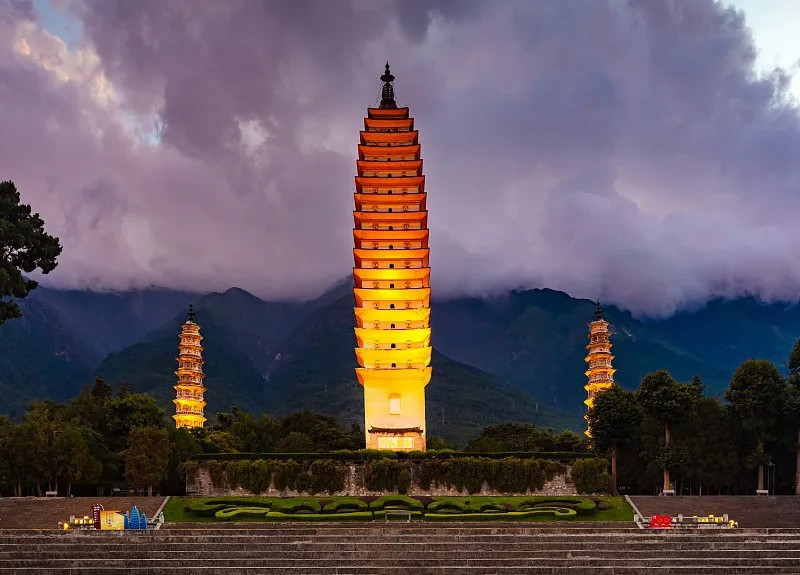ThreePagoda: (354, 60, 432, 451)
